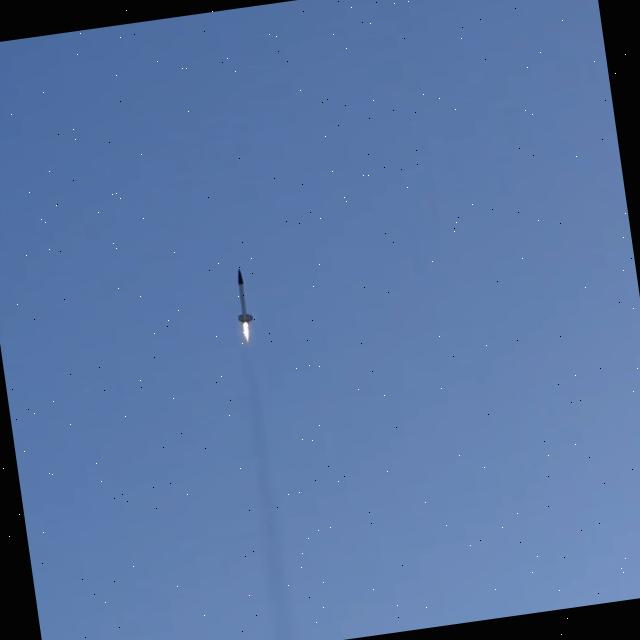rocket: (237, 270, 252, 342)
smoke_trail_with_rocket: (237, 270, 298, 640)
